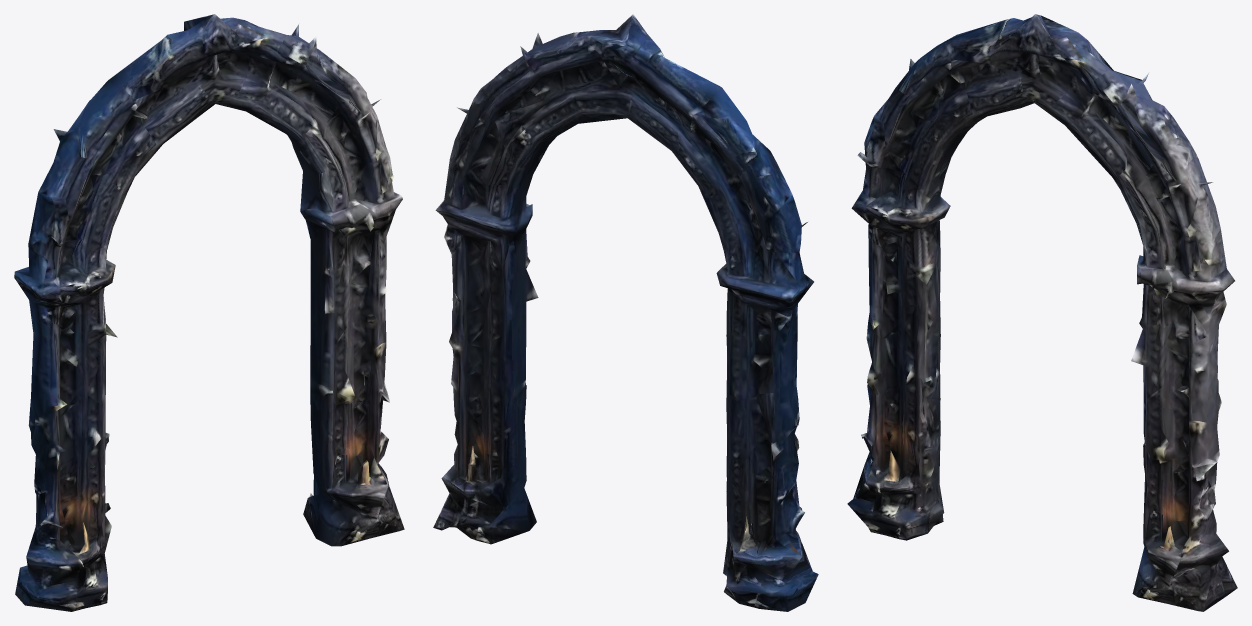
File: crypt_door_arch.glb
3 views of the same model, side by side, from view 1: azimuth 30°, elevation 25°; view 2: azimuth 150°, elevation 25°; view 3: azimuth 330°, elevation 25° (orthographic). The views are drawn at different scales.
Parts seen in each view (by area): view 1: tripo_node_cce80a1f-069a-47b1-95c7-9561f6d046e6; view 2: tripo_node_cce80a1f-069a-47b1-95c7-9561f6d046e6; view 3: tripo_node_cce80a1f-069a-47b1-95c7-9561f6d046e6.
Boxes of the visible parts, left/top/right/bottom form: tripo_node_cce80a1f-069a-47b1-95c7-9561f6d046e6: left=14, top=14, right=404, bottom=611; tripo_node_cce80a1f-069a-47b1-95c7-9561f6d046e6: left=433, top=14, right=818, bottom=611; tripo_node_cce80a1f-069a-47b1-95c7-9561f6d046e6: left=847, top=14, right=1237, bottom=611.
Bounding box in the file's own units: 0.6946 × 0.9814 × 0.1514.
Materials: 1 (1 with a texture image).
